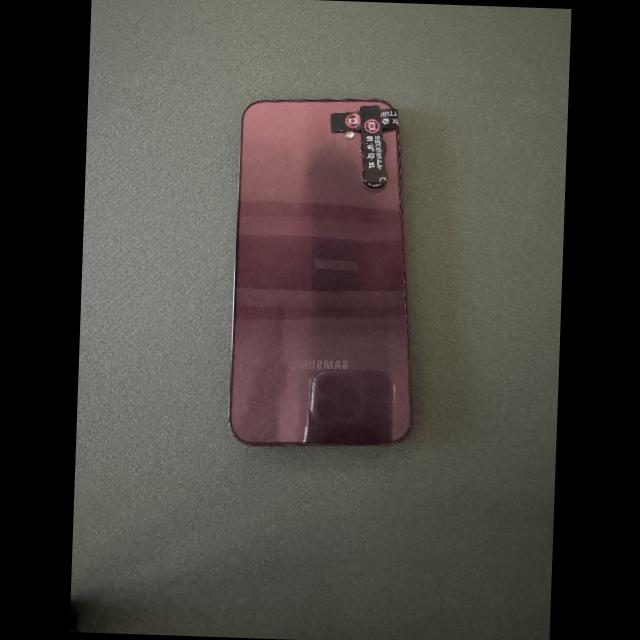phone: (229, 98, 411, 446)
sticker: (359, 104, 386, 183), (379, 109, 398, 129)
